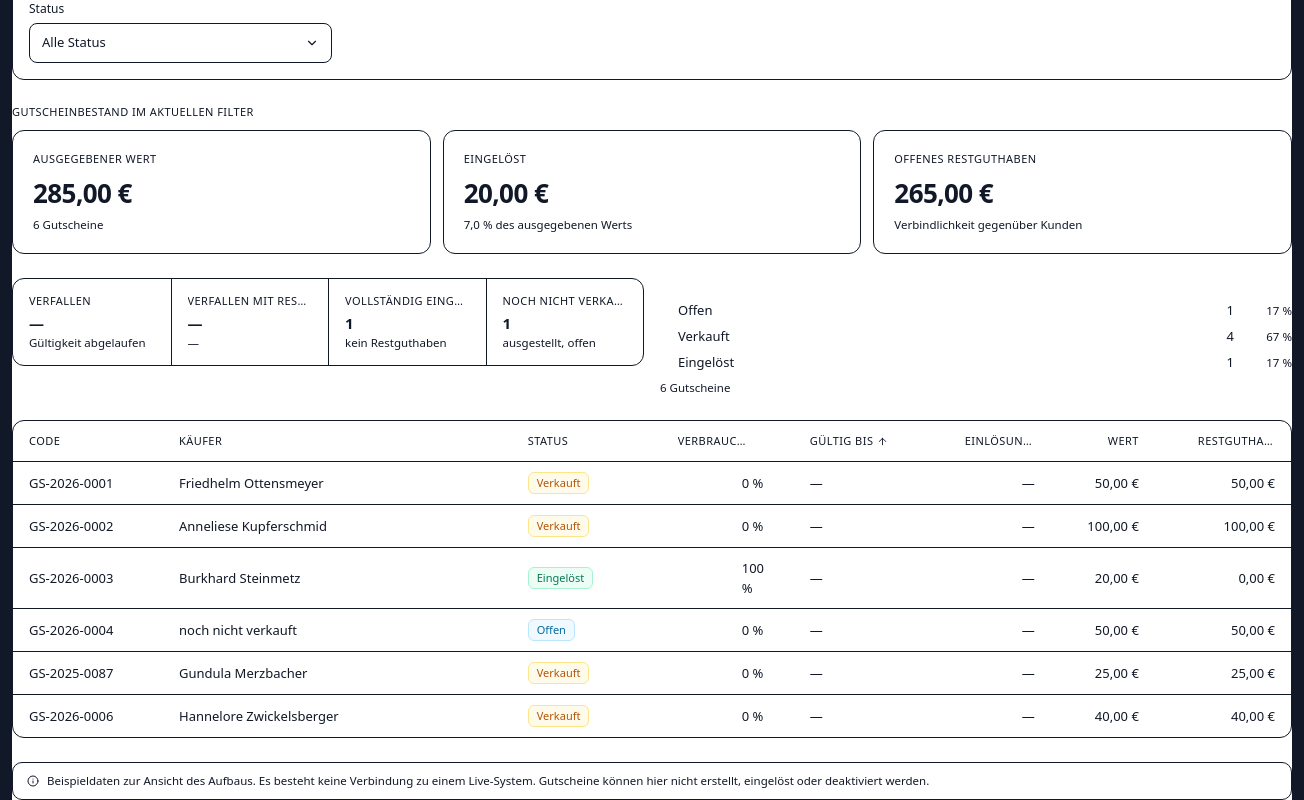
it: vouchers with no upstream expiry or redemption history › states that redemptions are not recorded, rather than claiming none happened
The image size is (1304, 800).
(page scrolled)
Click the row that starts with "GS-2026-0001" at (652, 483), box [13,462,1291,504]
(page scrolled)
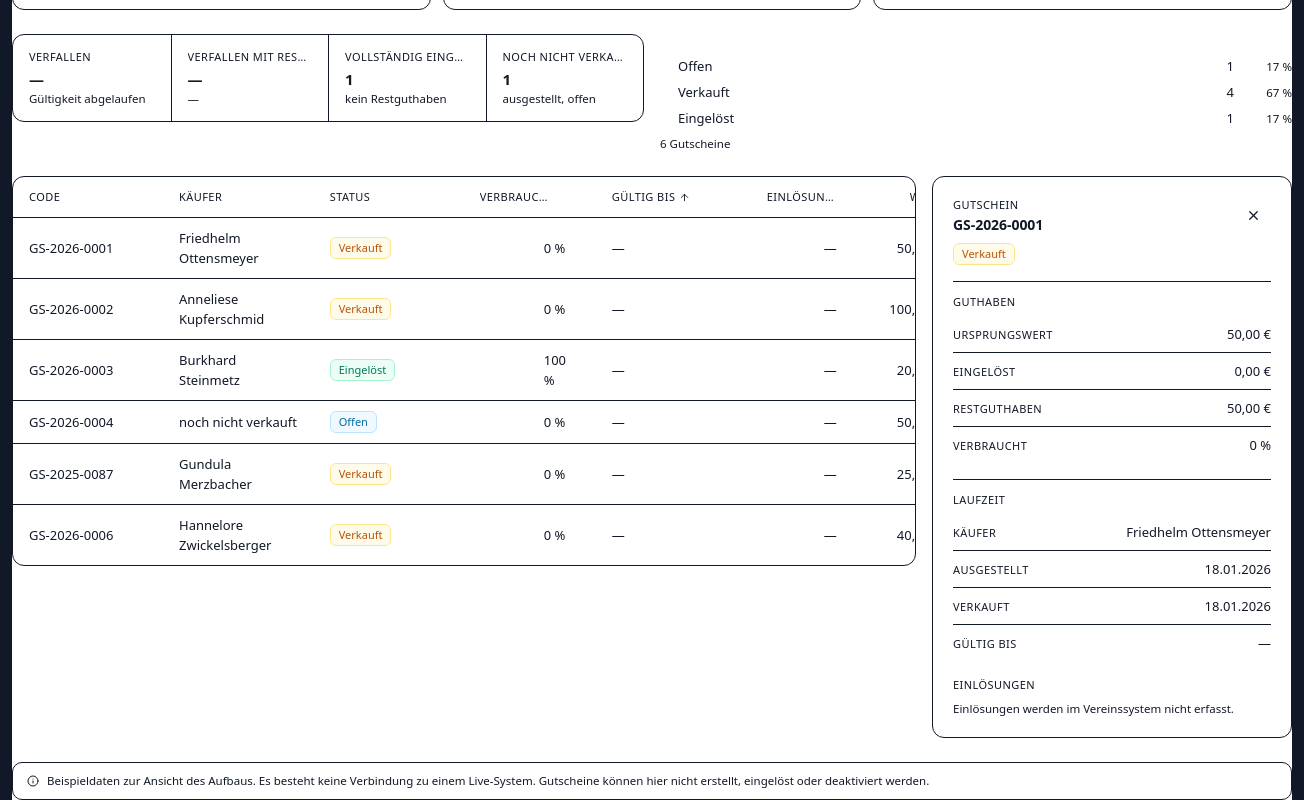
Result: the text "Einlösungen werden im Vereinssystem nicht erfasst." is shown at [953,701,1271,717]
